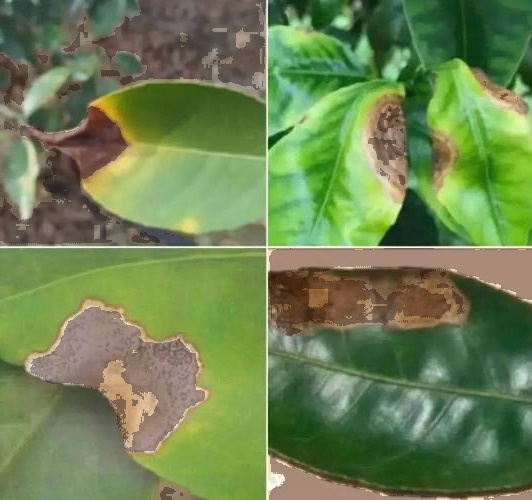Anthracnose: (25, 306, 219, 443), (356, 51, 509, 193), (277, 262, 506, 343), (32, 99, 137, 188)
